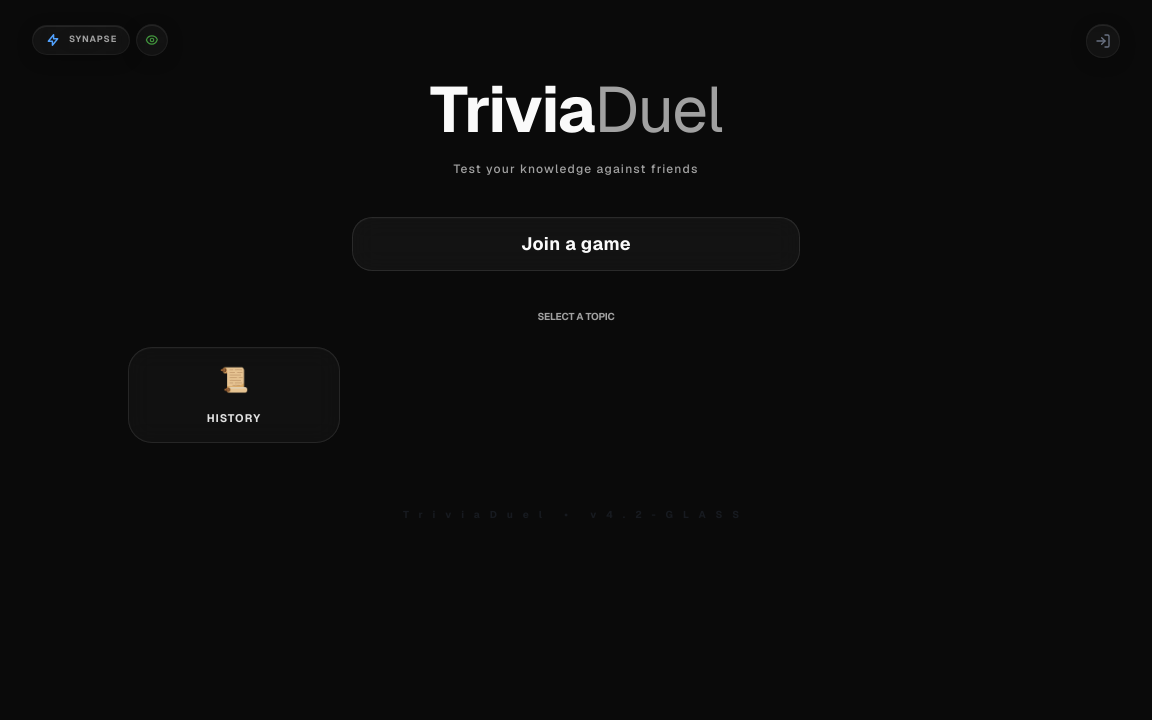
Test: Landing Page › displays topic selection and reveals create flow on click
# Click History category
Click the text "History" at (234, 419), box [207,412,261,426]
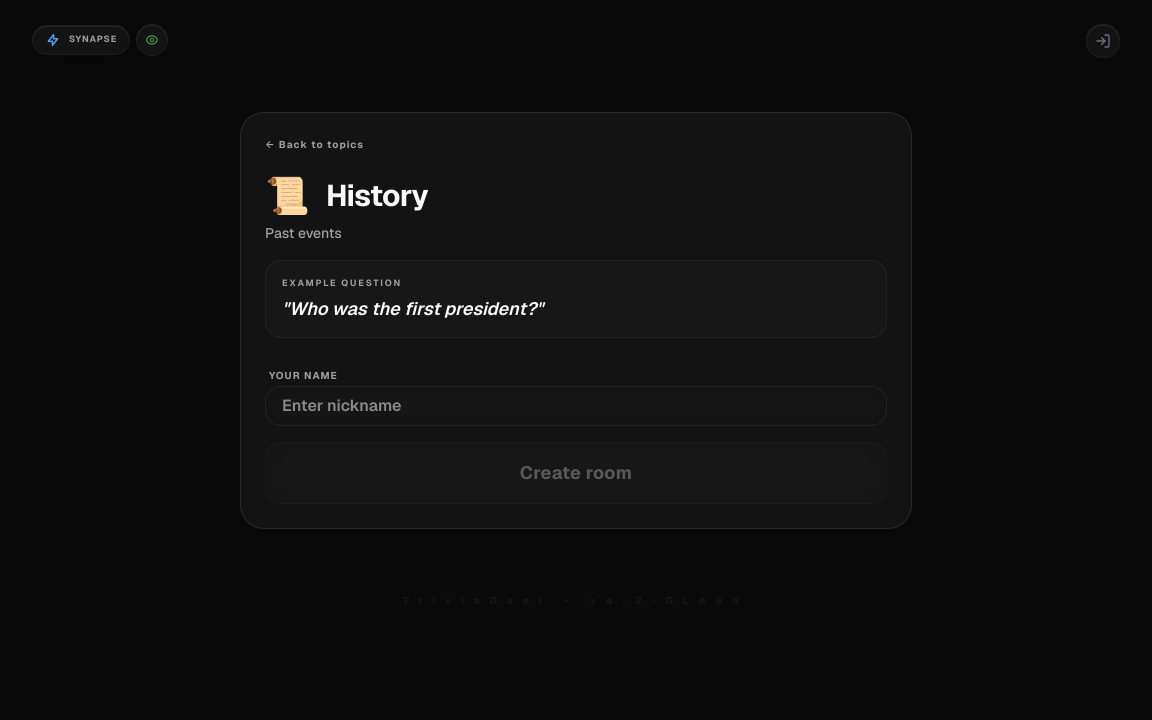
Expected: the field with placeholder "Enter nickname" is shown, [265,386,887,426]
Expected: the button "Create room" is shown, [265,442,887,504]
